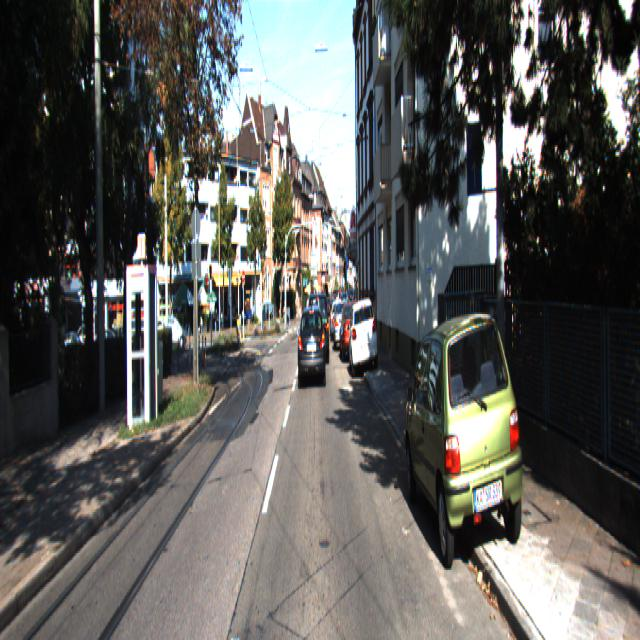Car: (402, 303, 528, 583), (297, 301, 326, 390), (348, 295, 378, 381), (307, 291, 329, 366), (636, 237, 640, 638), (338, 302, 362, 367), (332, 302, 352, 357), (162, 318, 187, 352)
